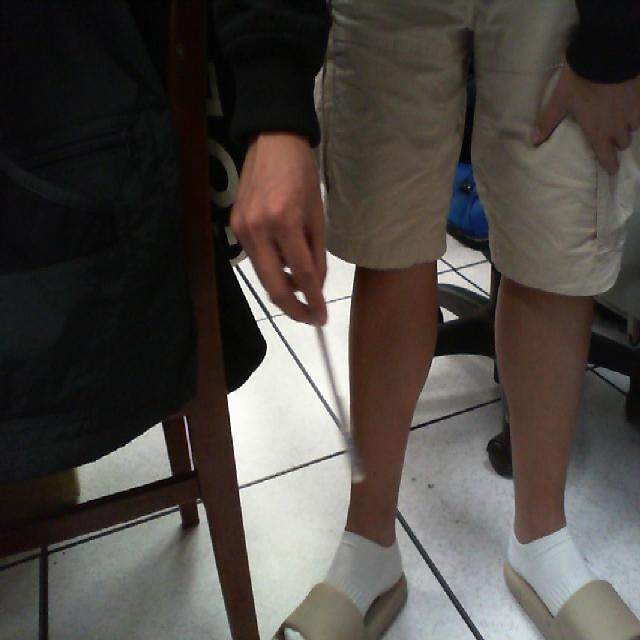Pen: (276, 274, 378, 521)
